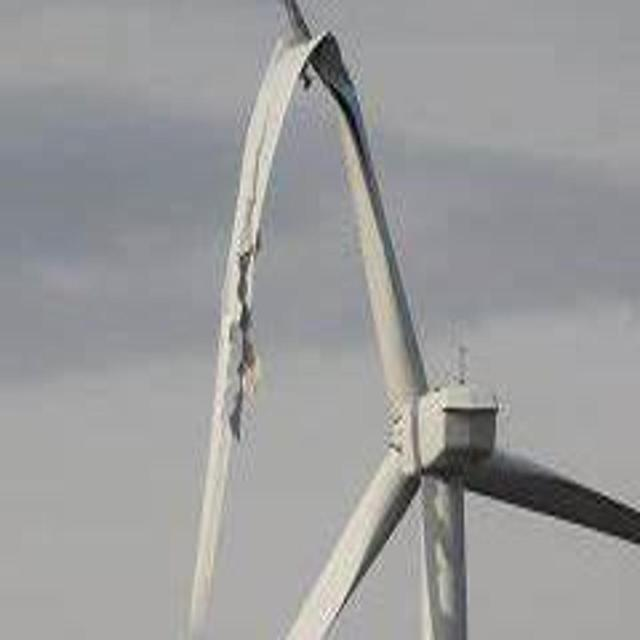crack: (210, 4, 401, 442)
